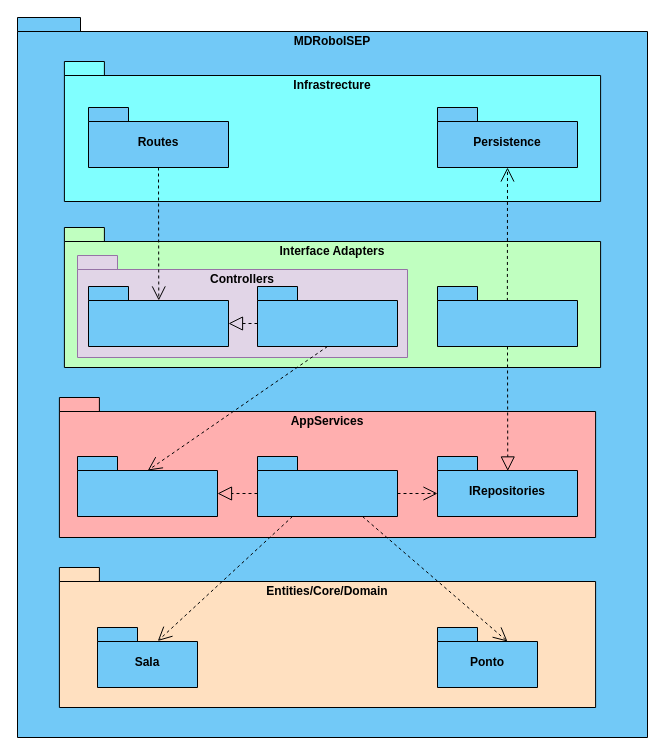
Some shapes in this 665 by 755 pixel diagram are drawn without their labels. The shapes that lost their labels are listed below. From the top down, each one's centre as x and y in pixels, then its label:
At (158,316): "IControllers".
At (327,316): "ImplControllers".
At (507,316): "Repos".
At (147,486): "IServices".
At (327,486): "ImpServices".
